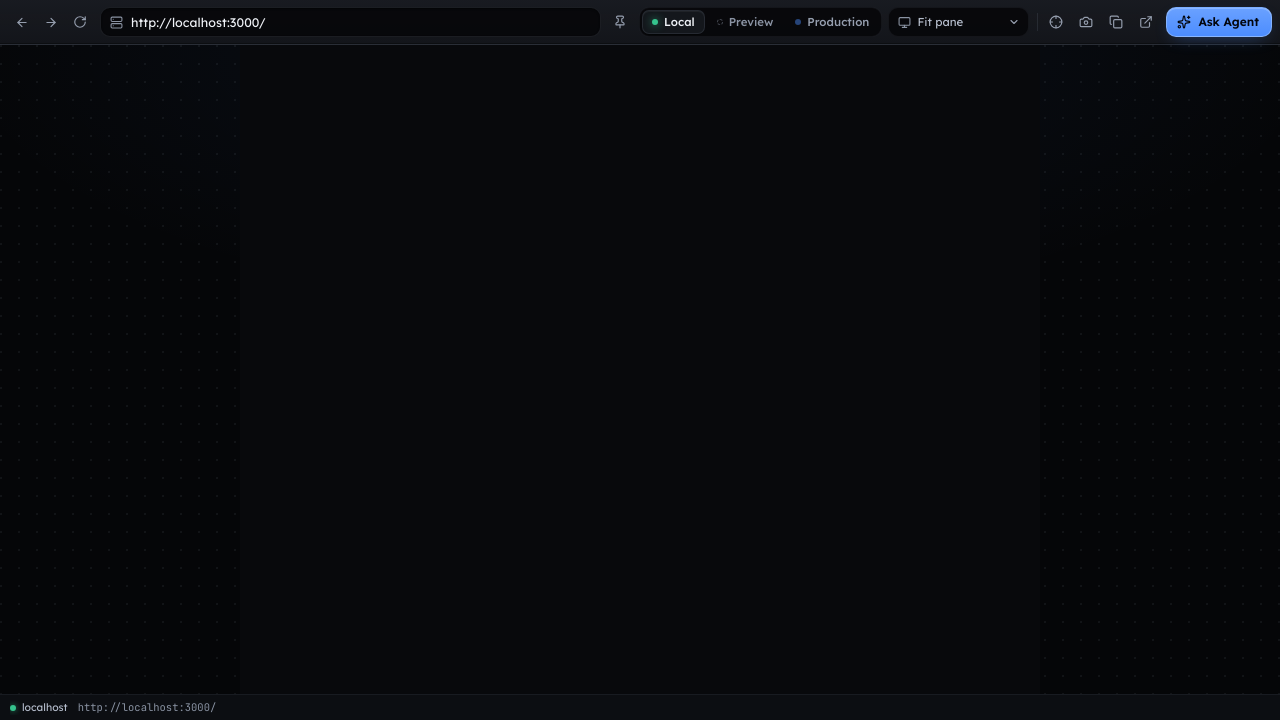
Test case: Live Browser › offers to launch an agent when none is running
Click the button "Ask Agent": x=1219, y=22 [1166, 7, 1272, 37]
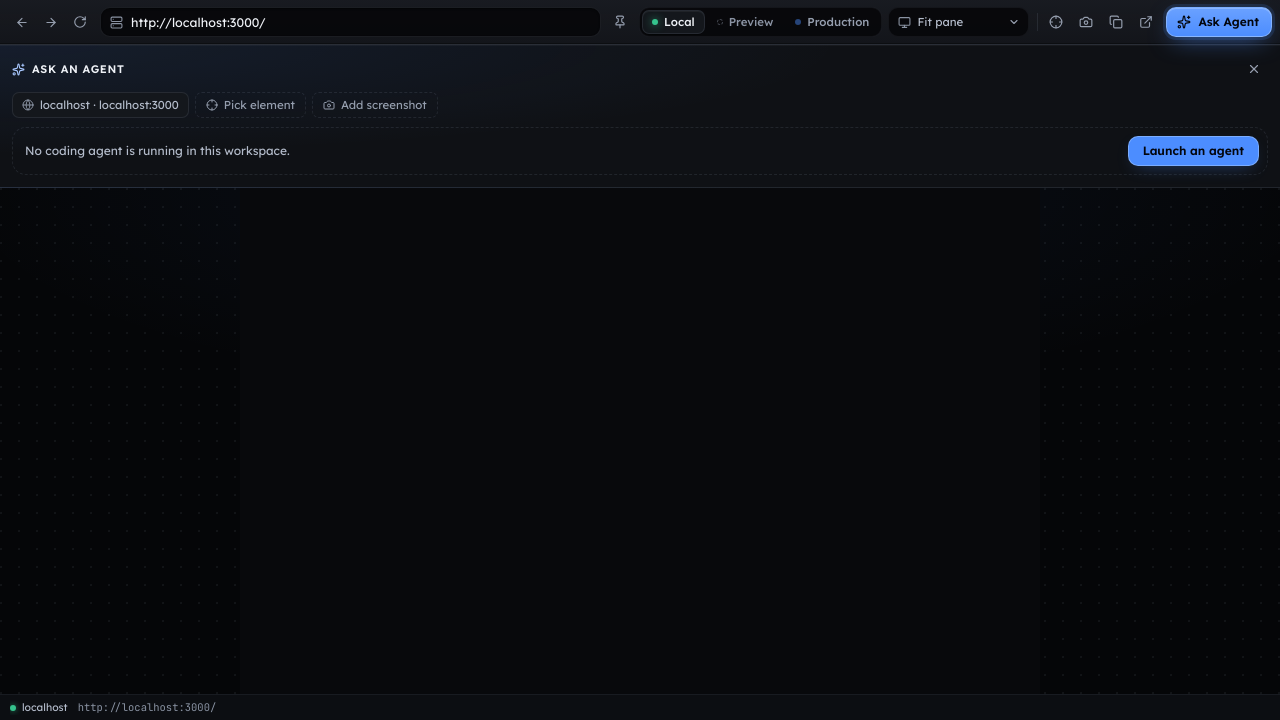
Now the text "No coding agent is running in this workspace." is shown, box [25, 143, 290, 158]
Now the button "Launch an agent" is shown, box [1128, 136, 1259, 166]
